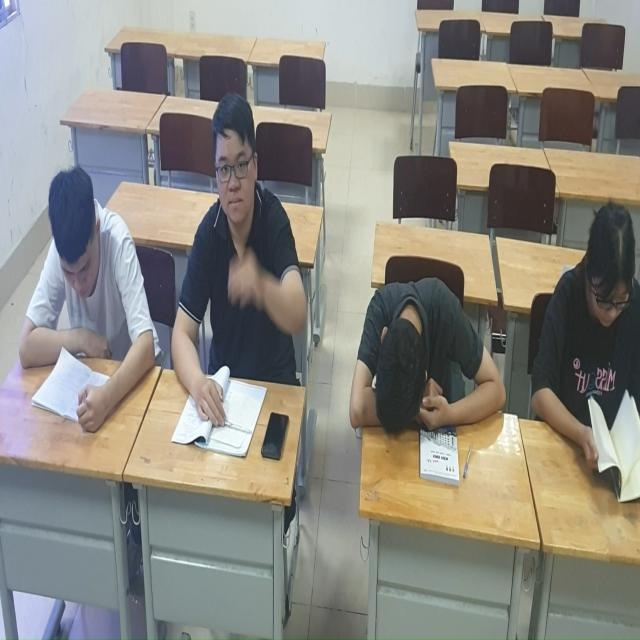read: (7, 156, 156, 438), (527, 204, 640, 522)
sleep: (346, 270, 510, 474)
